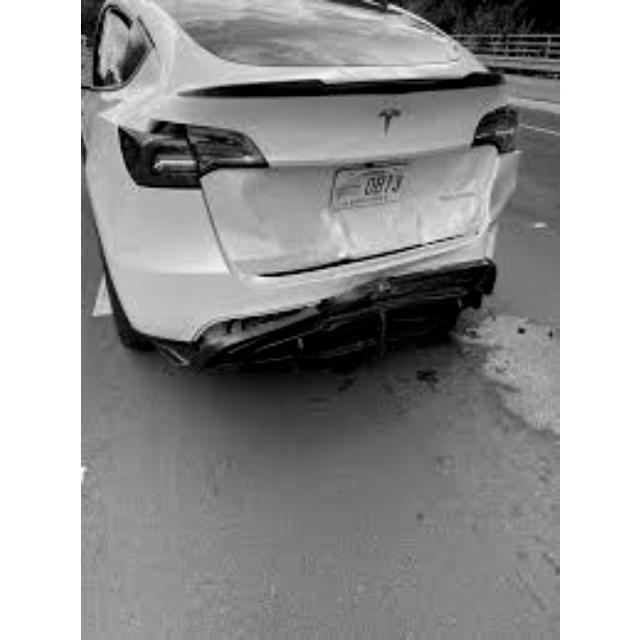boot-dent: (200, 146, 538, 266)
